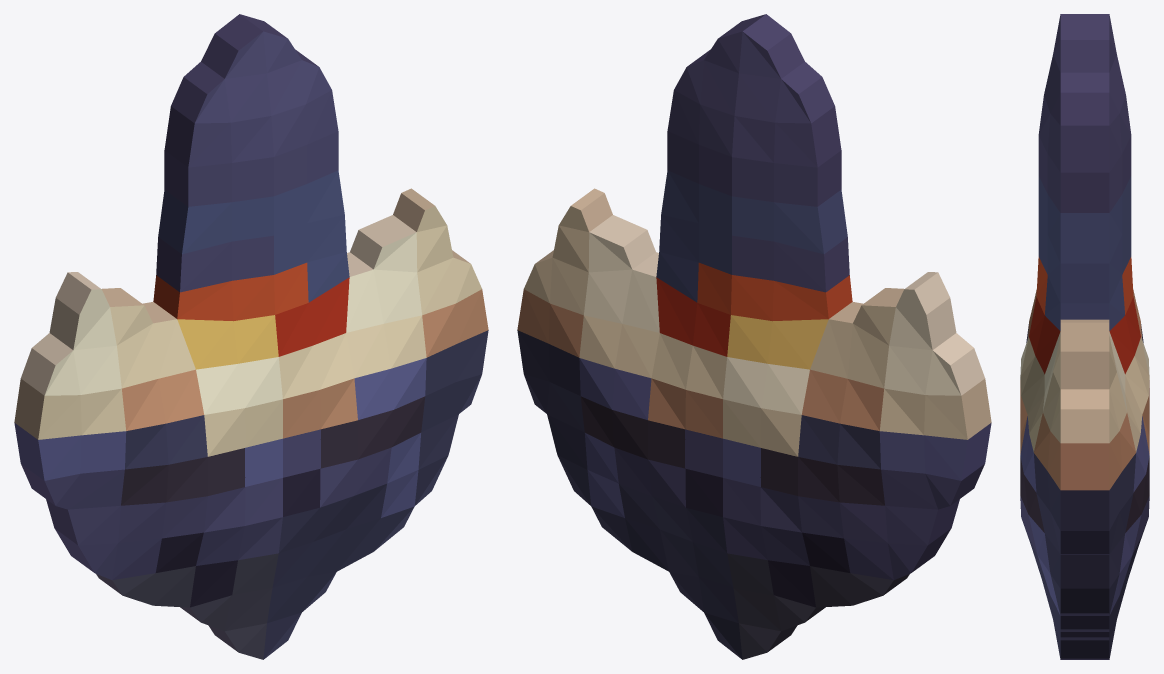
File: candle_chandelier.glb
3 views of the same model, side by side, from view 1: azimuth 30°, elevation 25°; view 2: azimuth 150°, elevation 25°; view 3: azimuth 270°, elevation 25° (orthographic). The views are drawn at different scales.
Visible parts, largest first — view 1: candle_chandelier; view 2: candle_chandelier; view 3: candle_chandelier.
Part boxes in pixels (x1,y1,x2,y2): candle_chandelier: (14,14,488,659); candle_chandelier: (517,14,991,659); candle_chandelier: (1020,14,1149,659).
Size of the model in its own units: 0.75 by 1 by 0.1813.
Materials: 1 (1 with a texture image).
